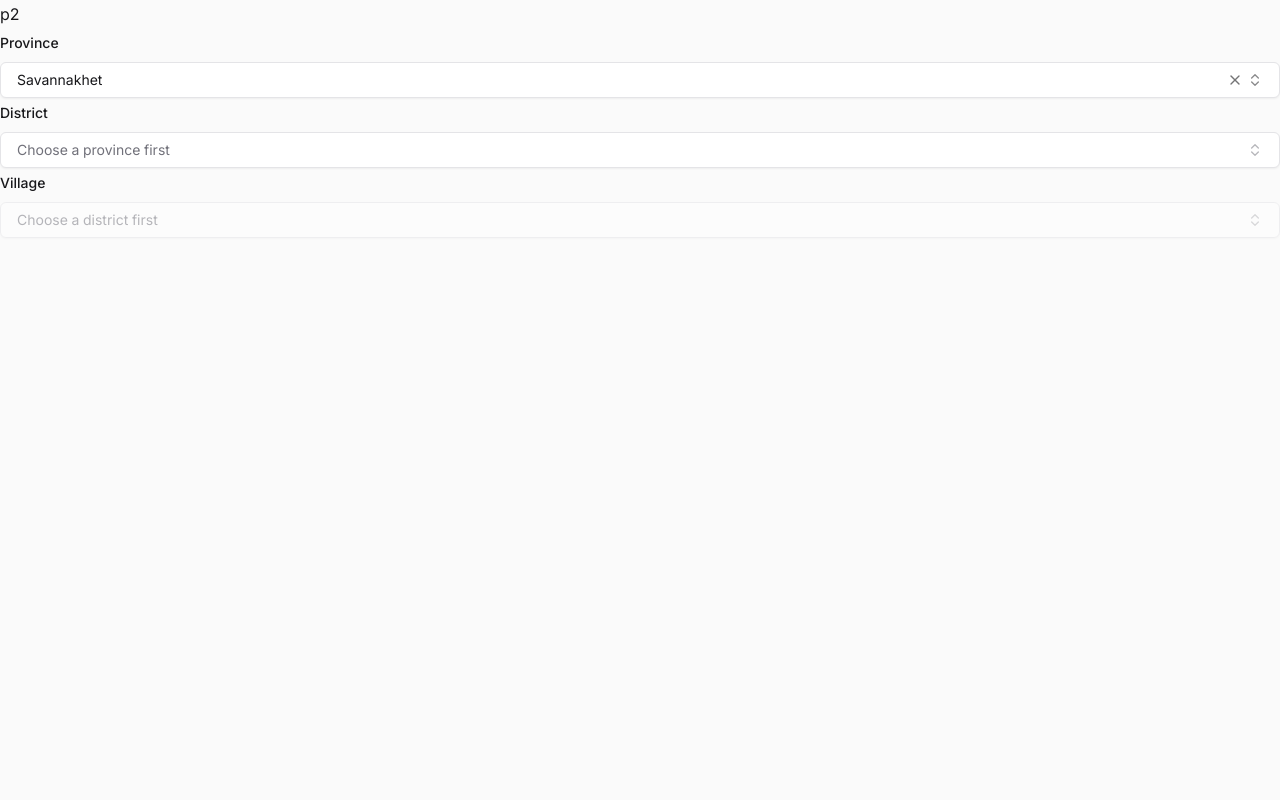
Test: PlacePickerField › stops at the district where the tree has no villages
Click the dropdown labelled "Choose a province first": (93, 149) [0,132,1279,168]
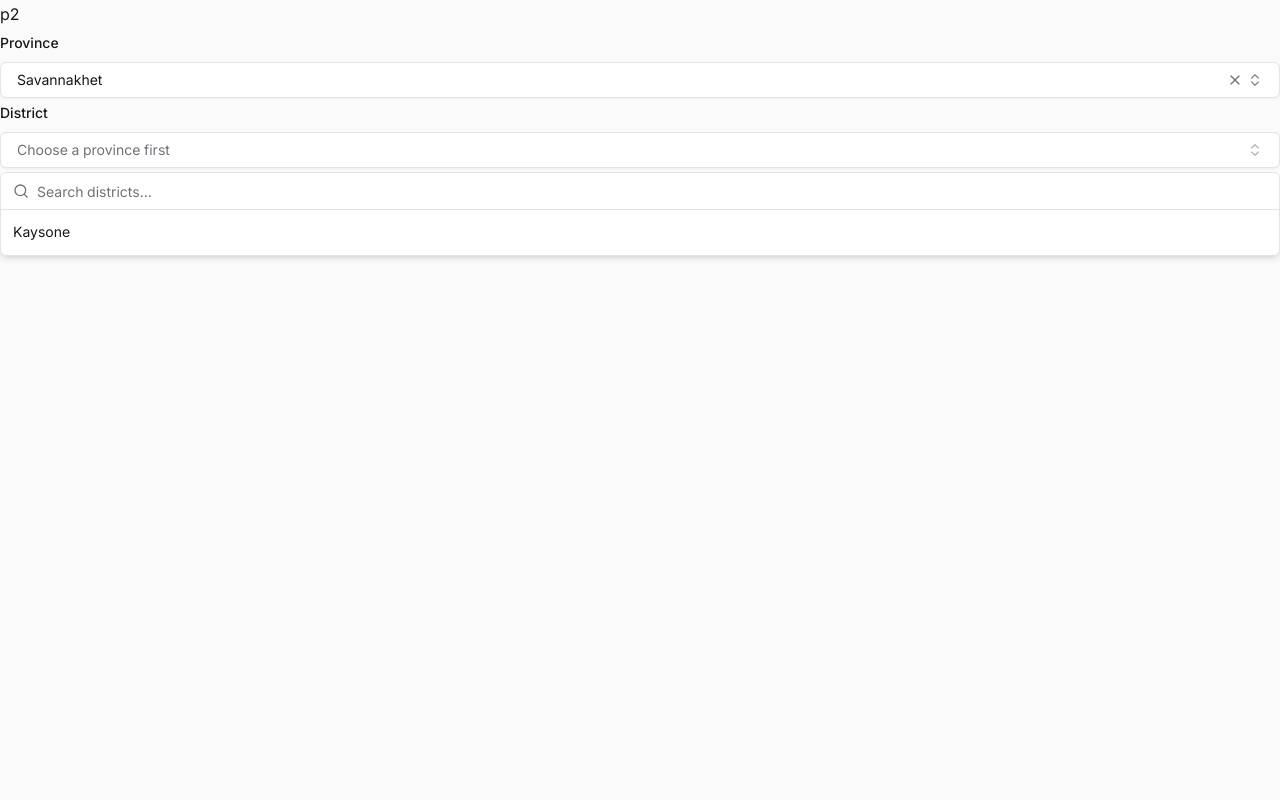
Click the button "Kaysone": (42, 232) [5,214,1275,250]
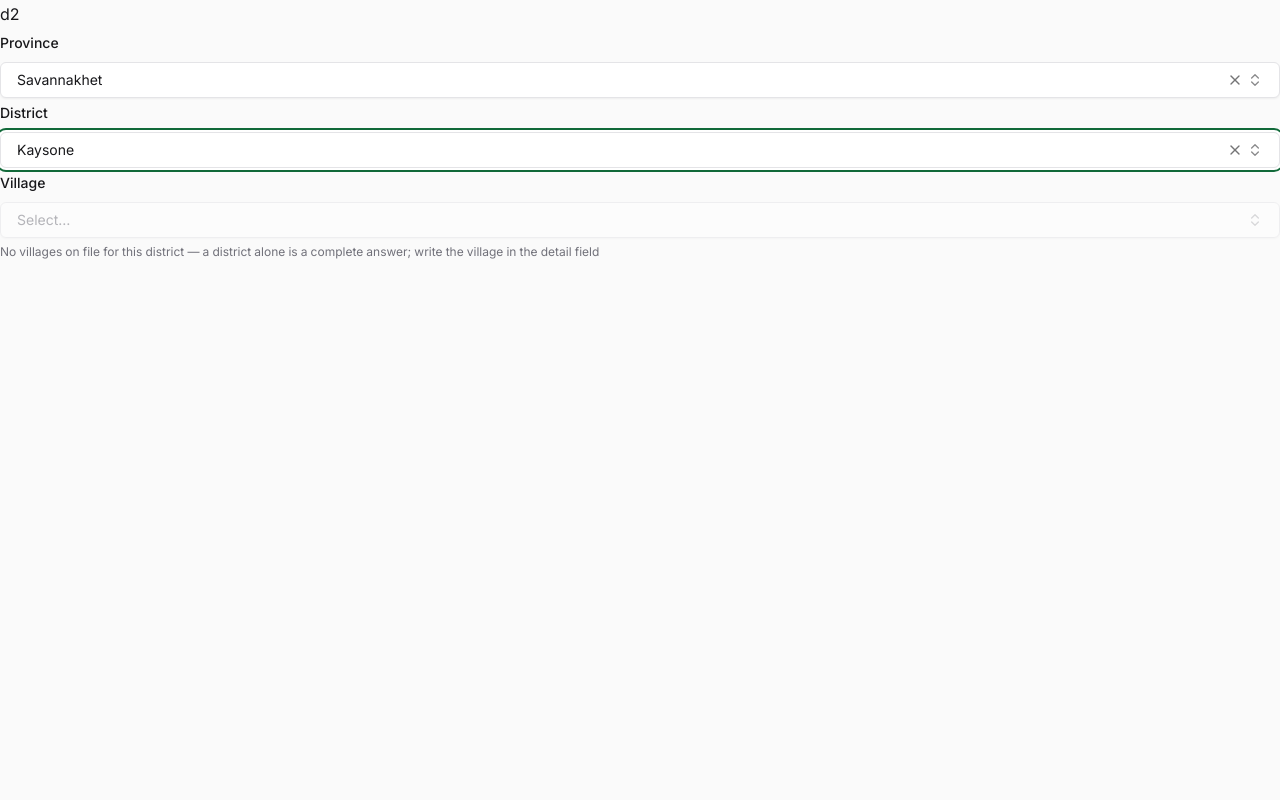
Expected: the dropdown labelled "Select…" is disabled, [0,202,1279,238]
Expected: the text with test id "value" reads "d2", [0,1,20,27]
